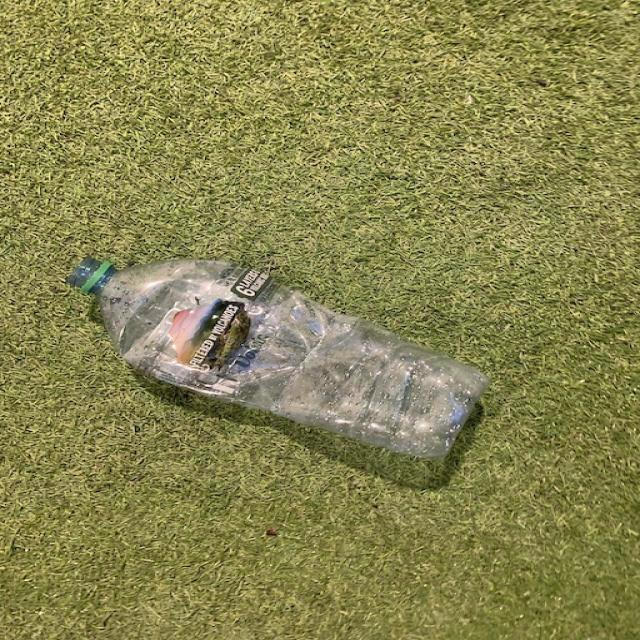bottle: (67, 254, 491, 462)
